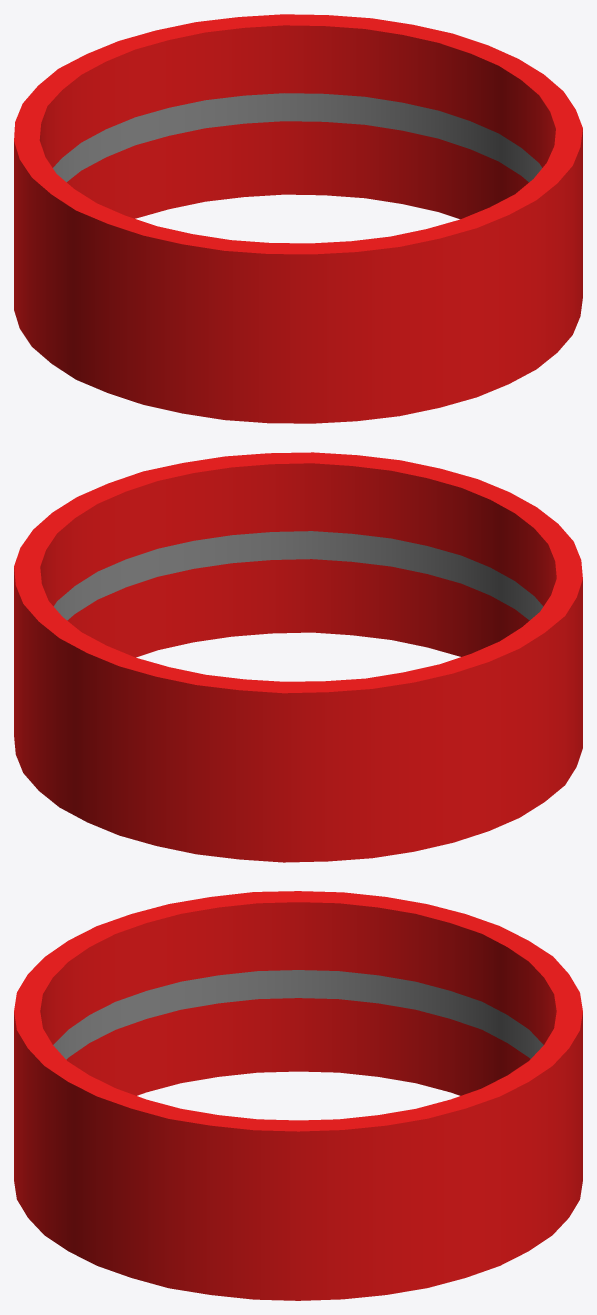
File: wall.FBX
3 views of the same model, one above another, from view 1: azimuth 30°, elevation 25°; view 2: azimuth 150°, elevation 25°; view 3: azimuth 270°, elevation 25° (orthographic).
Visible parts, largest first — view 1: Cylinder002; view 2: Cylinder002; view 3: Cylinder002.
Boxes of the visible parts, bbox=[...] form: Cylinder002: bbox=[14, 14, 582, 423]; Cylinder002: bbox=[14, 452, 582, 862]; Cylinder002: bbox=[14, 891, 582, 1300].
Size of the model in its own units: 143 by 46.85 by 143.
